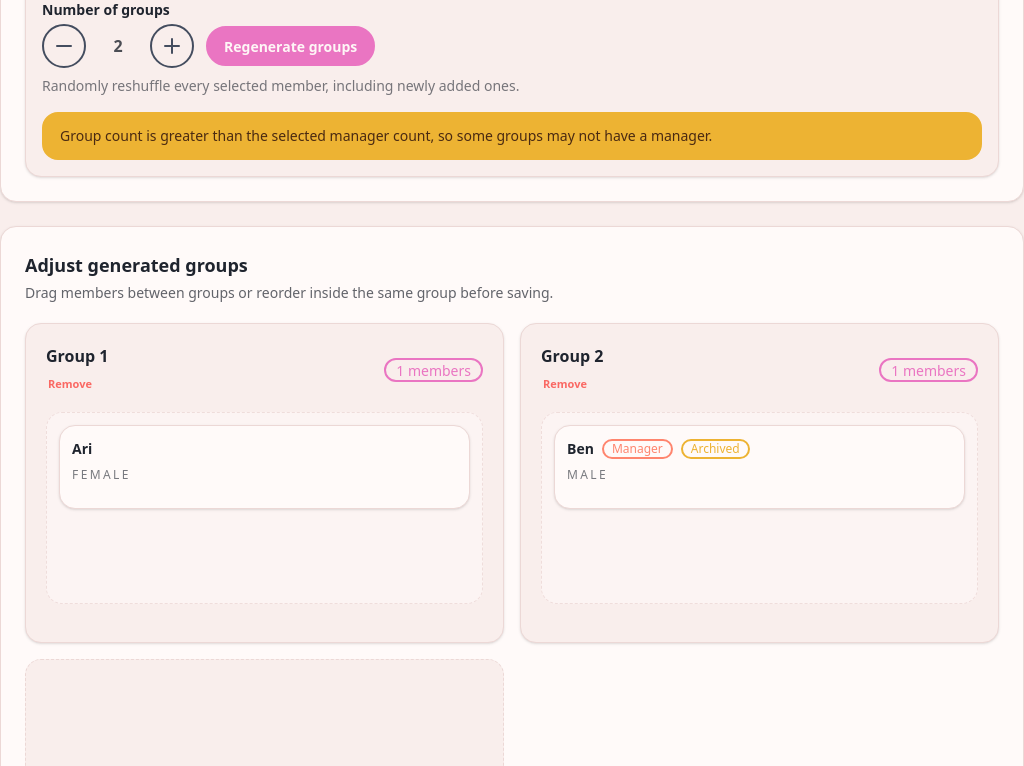
activity builder page › keeps a non-empty group when the remove confirmation is canceled
The image size is (1024, 766).
(page scrolled)
Click the button with aria-label "Remove group 2" at coordinates (565, 384), box 541,372 -> 589,396
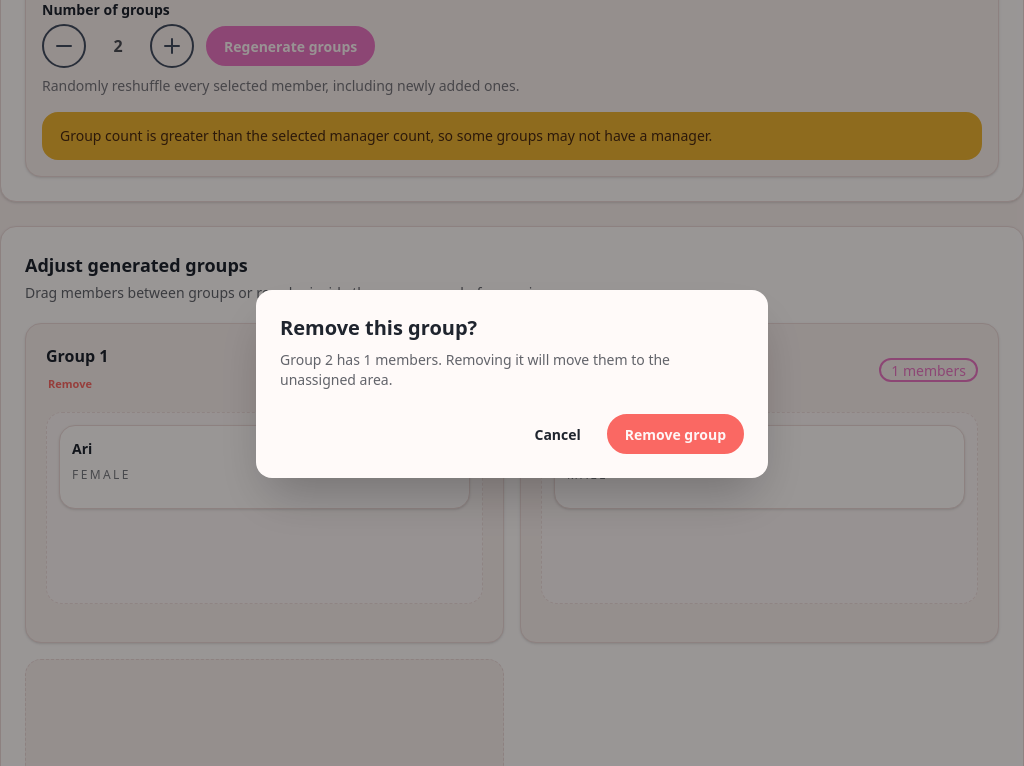
Check: the heading "Remove this group?" is shown, box 280,314 -> 477,341
Check: the text "Group 2 has 1 members. Removing it will move them to the unassigned area." is shown, box 280,350 -> 670,389
Click the button "Cancel" below "Remove this group?" at coordinates (558, 434), box 516,414 -> 599,454
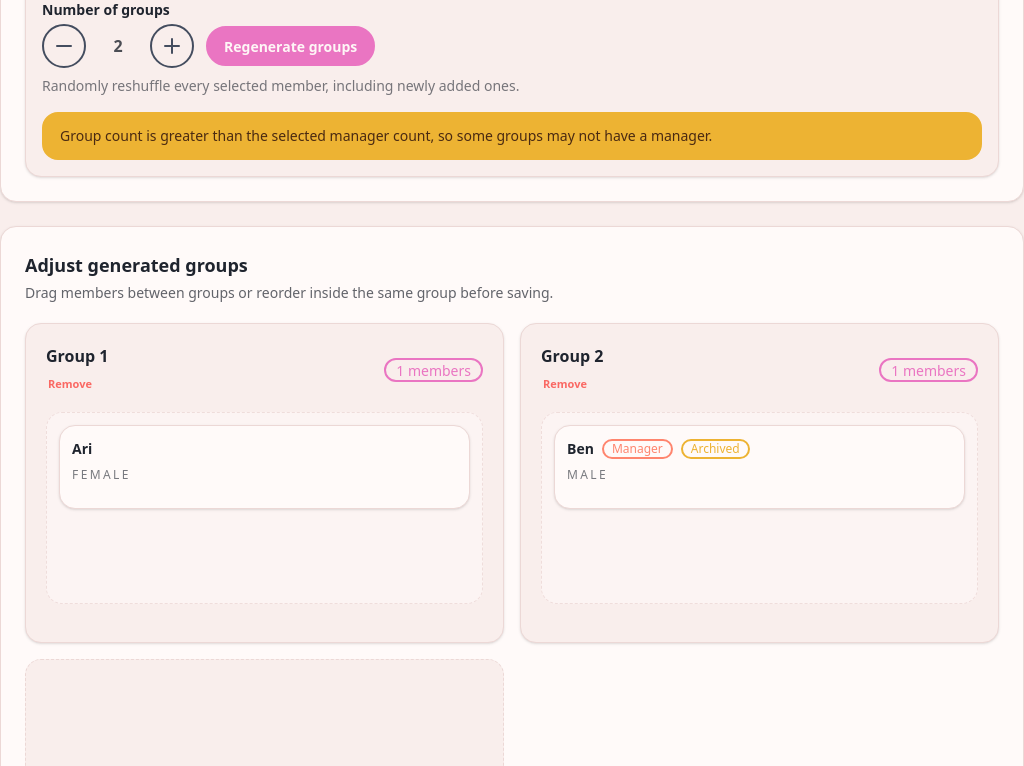
Check: the heading "Remove this group?" is gone
